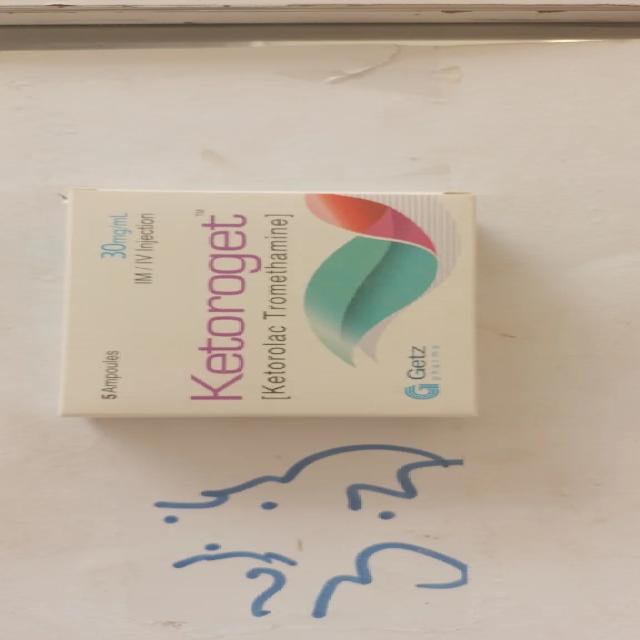drug-name: (188, 200, 265, 402)
